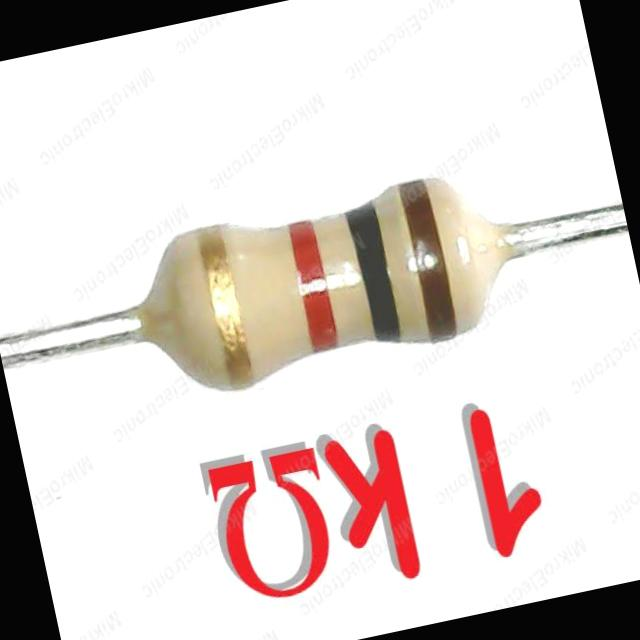Resistor: (134, 180, 515, 389)
black: (345, 204, 398, 341)
brown: (398, 180, 455, 340)
gold: (199, 230, 251, 386)
red: (288, 222, 337, 350)
